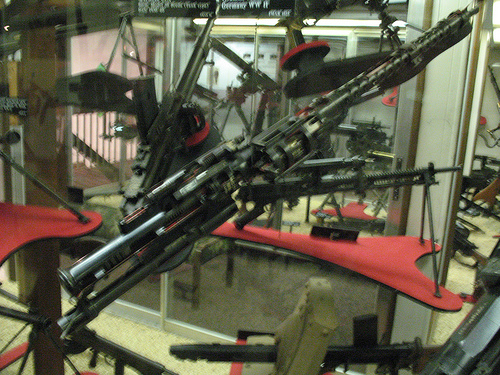rifle: (25, 6, 477, 355)
